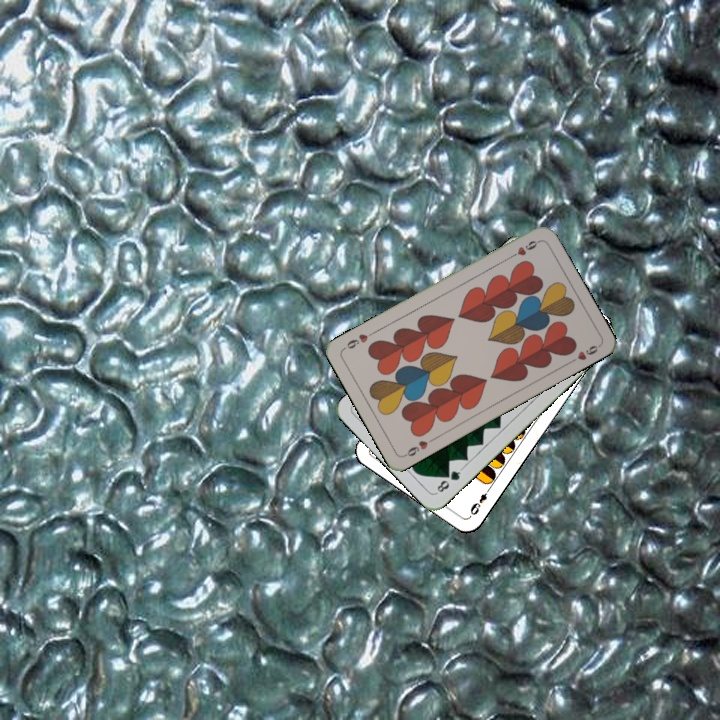E9: (466, 483, 494, 519)
G8: (431, 464, 465, 496)
H9: (400, 434, 437, 459), (505, 236, 542, 261)
